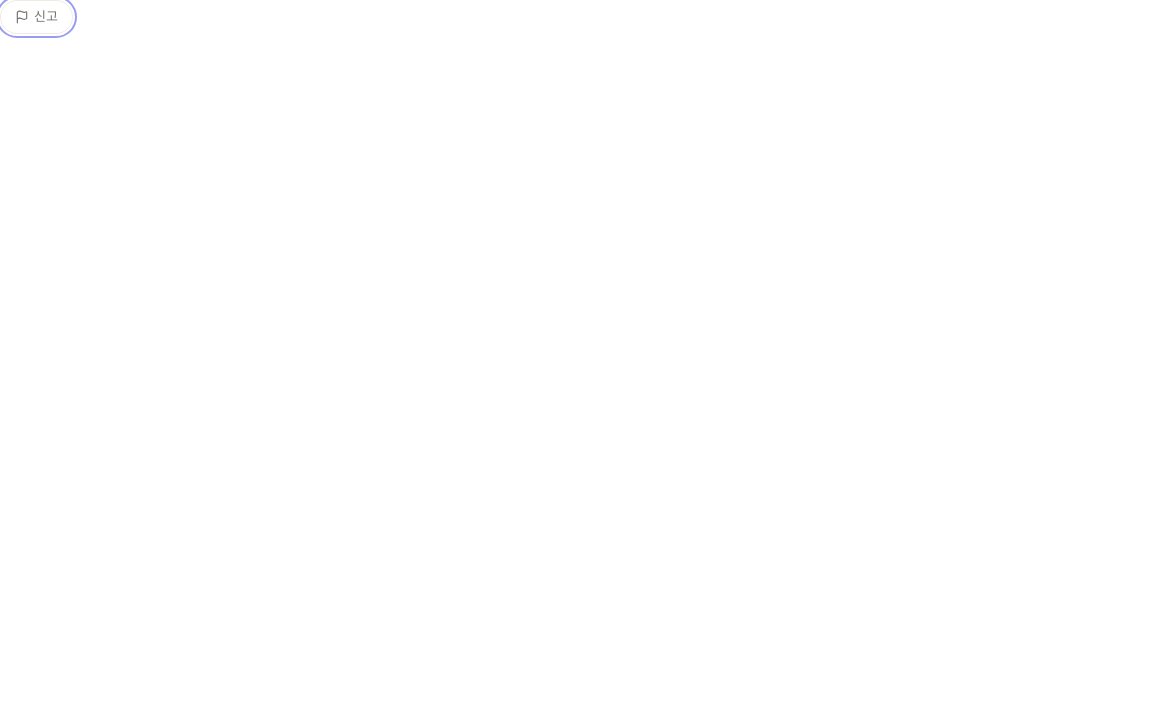
useModalFocus › 4. ReportButton — Esc 로 닫히고 신고 버튼으로 복귀
Click the button "신고" at (36, 17), box [0, 0, 73, 34]
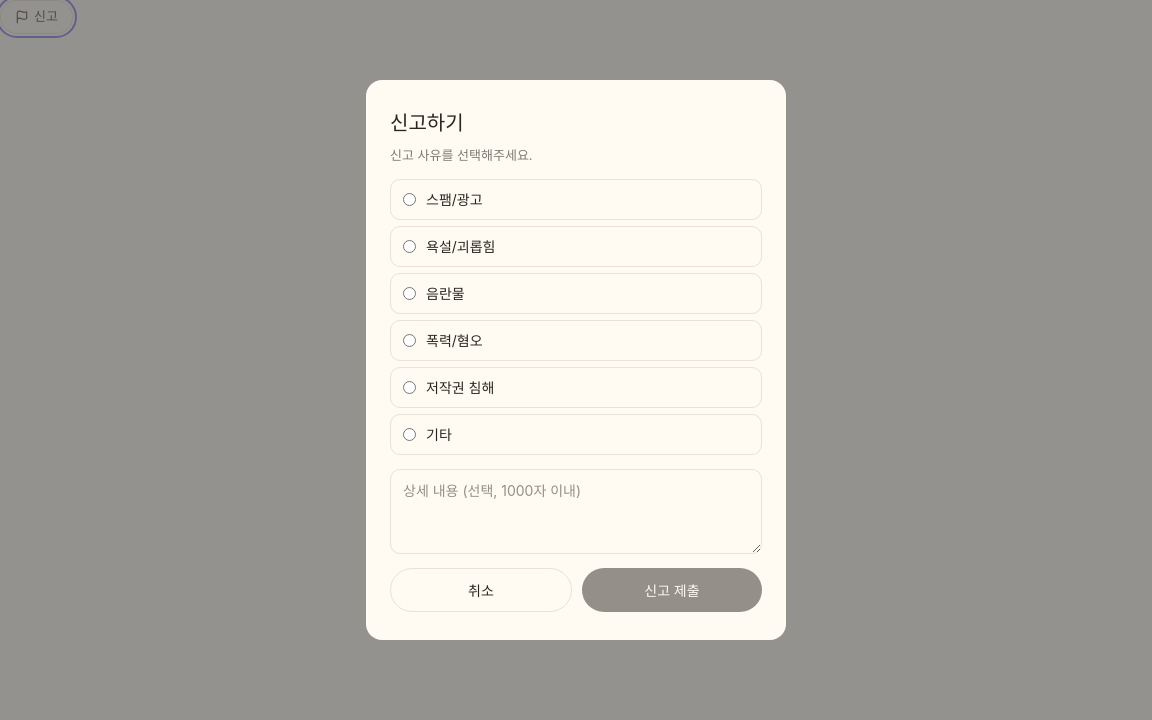
Check: the dialog "신고하기" is shown
Press Escape
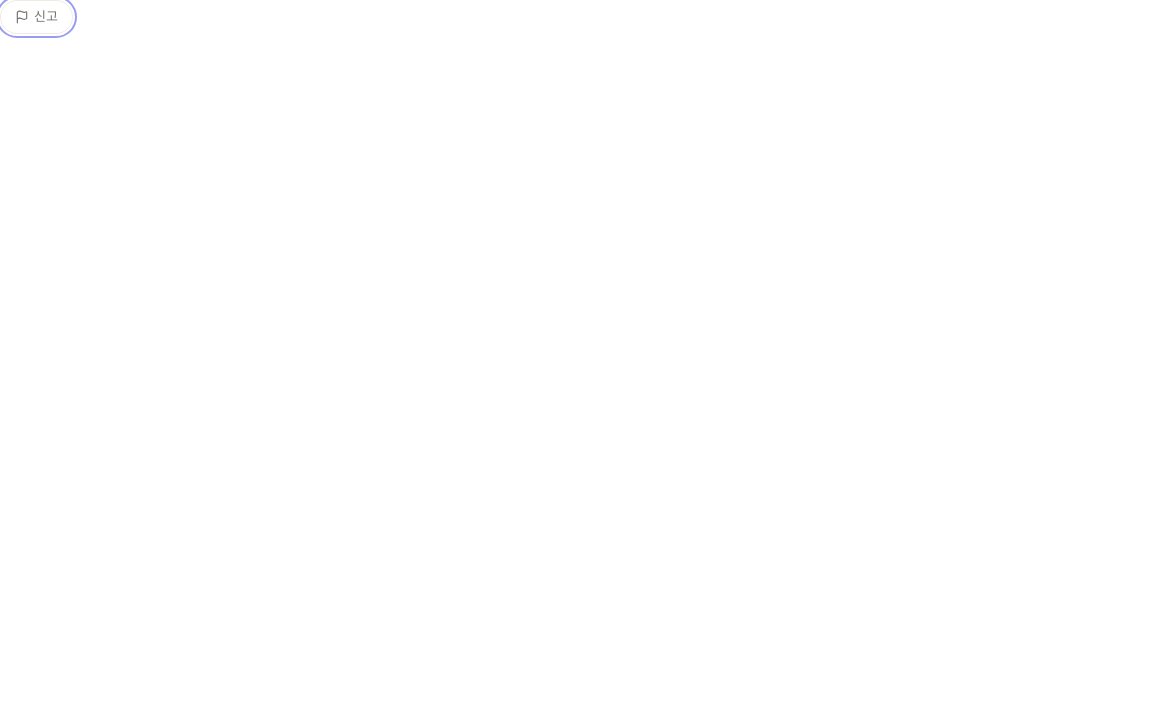
Check: the dialog is gone
